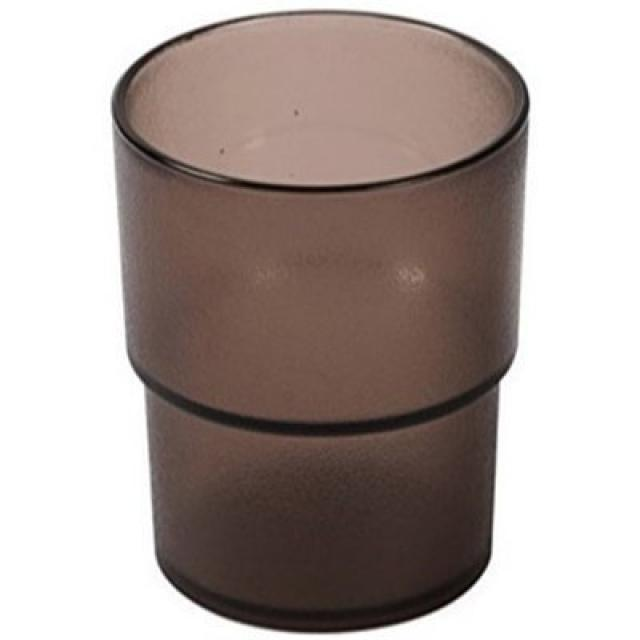Plastic: (114, 8, 528, 632)
